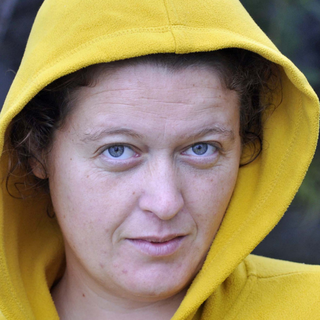eye: (95, 138, 145, 165), (176, 138, 225, 163)
